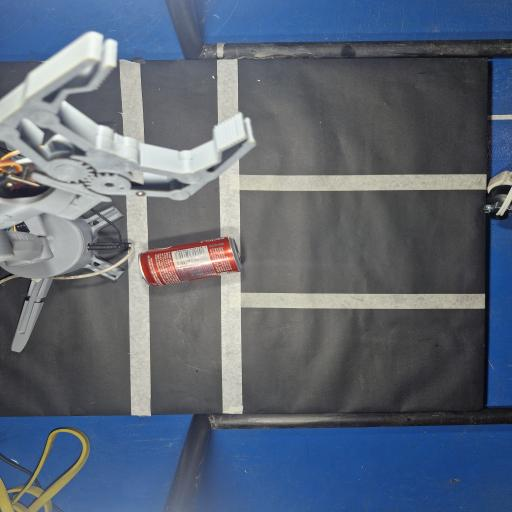lata: (139, 237, 241, 286)
